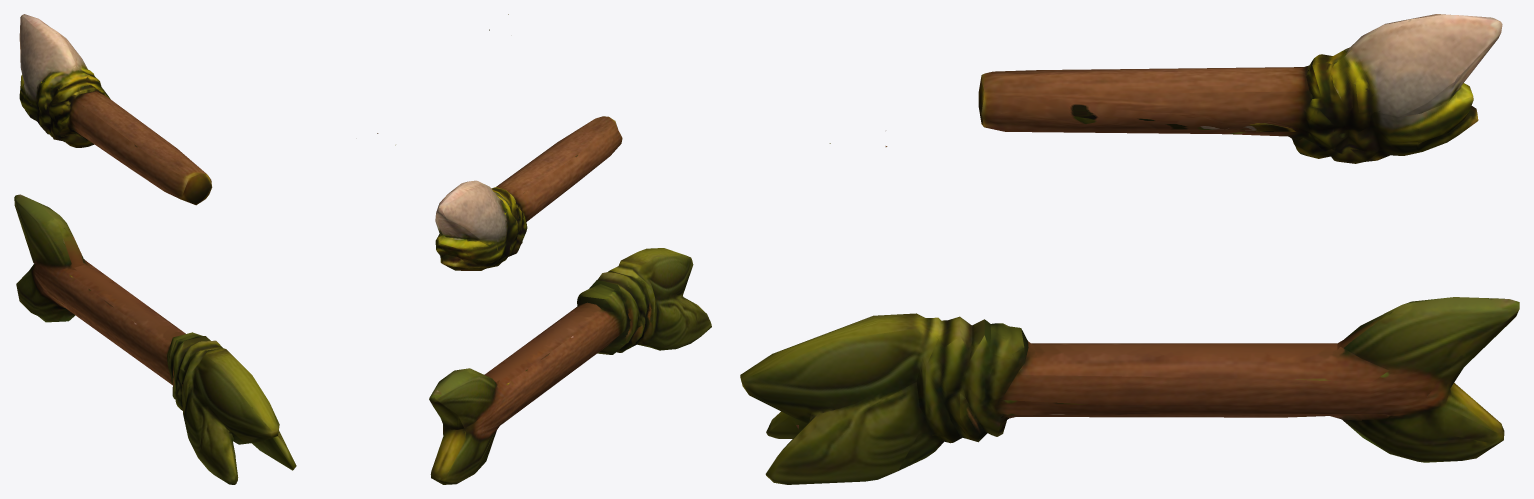
File: Arrow.glb
3 views of the same model, side by side, from view 1: azimuth 30°, elevation 25°; view 2: azimuth 150°, elevation 25°; view 3: azimuth 270°, elevation 25° (orthographic). The views are drawn at different scales.
Bounding box in the file's own units: 0.9416 × 1.25 × 1.98.
Materials: 1 (1 with a texture image).
